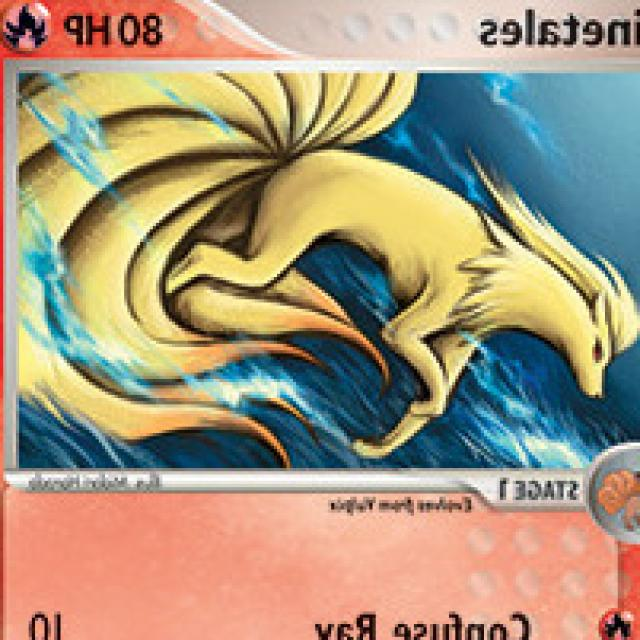Ninetales: (104, 69, 634, 452)
